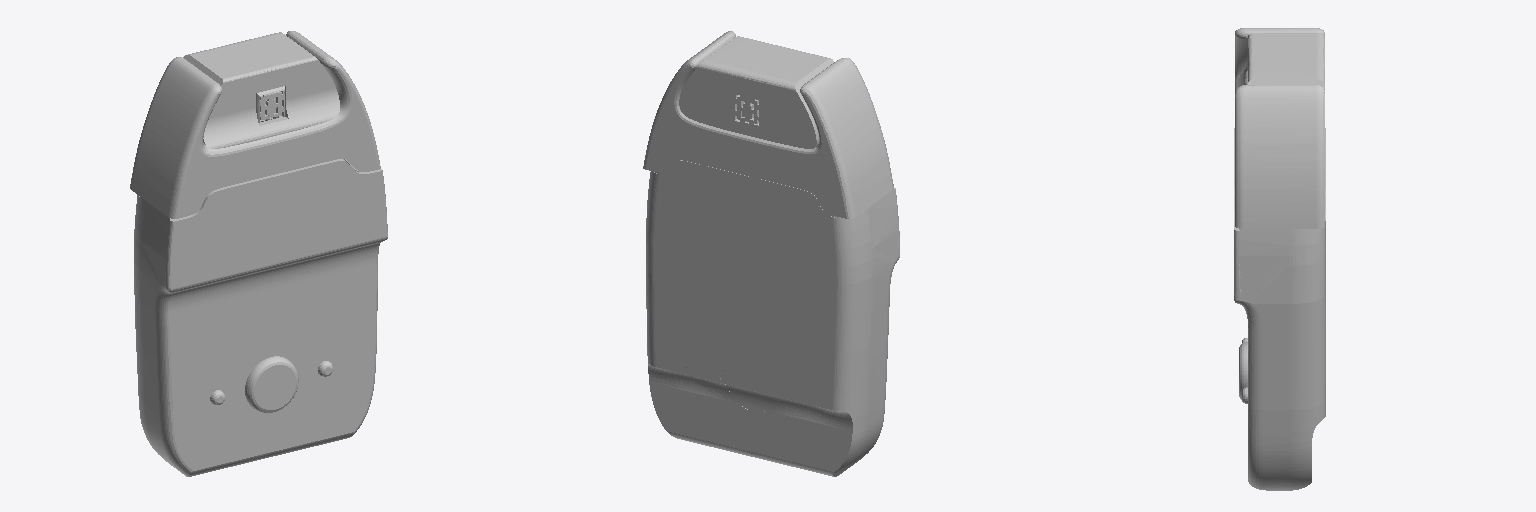
The model's file is Sensor.obj.
3 views of the same model, side by side, from view 1: azimuth 30°, elevation 25°; view 2: azimuth 150°, elevation 25°; view 3: azimuth 270°, elevation 25° (orthographic).
Parts seen in each view (by area): view 1: Body_11, Body_10_(2), Body_10, Body_02, Body_05; view 2: Body_11, Body_10_(2), Body_10, Body_02, Body_05; view 3: Body_11, Body_10_(2), Body_10.
Boxes of the visible parts, x1,y1,x2,y2 form: Body_11: [134, 159, 387, 476]; Body_10_(2): [130, 31, 380, 218]; Body_10: [183, 32, 339, 148]; Body_02: [245, 356, 298, 412]; Body_05: [256, 86, 284, 122]; Body_11: [646, 160, 899, 476]; Body_10_(2): [643, 31, 893, 218]; Body_10: [679, 36, 833, 148]; Body_02: [720, 361, 776, 411]; Body_05: [732, 91, 760, 128]; Body_11: [1234, 128, 1325, 490]; Body_10_(2): [1235, 28, 1324, 228]; Body_10: [1235, 34, 1324, 90].
Size of the model in its own units: 0.009 by 0.0155 by 0.0032.